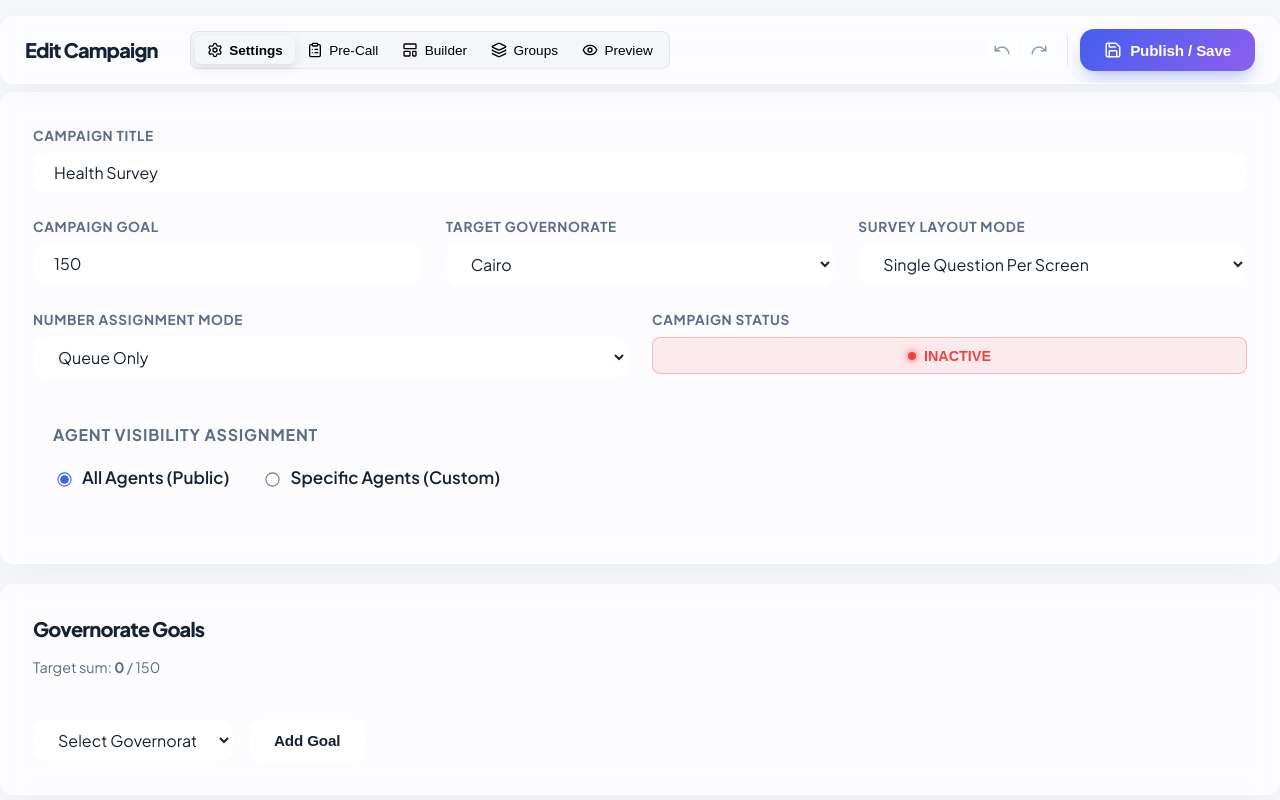
Test: SurveyBuilder Component Tests › INTERACTION: adds new section and questions
The image size is (1280, 800).
Expected: the field with placeholder "e.g. Health Awareness Poll 2026" is shown, top-left (33, 153), bottom-right (1247, 192)
// Switch to Builder tab
Step 1. Click the button "Builder" → x=435, y=50, box top-left (390, 36), bottom-right (479, 64)
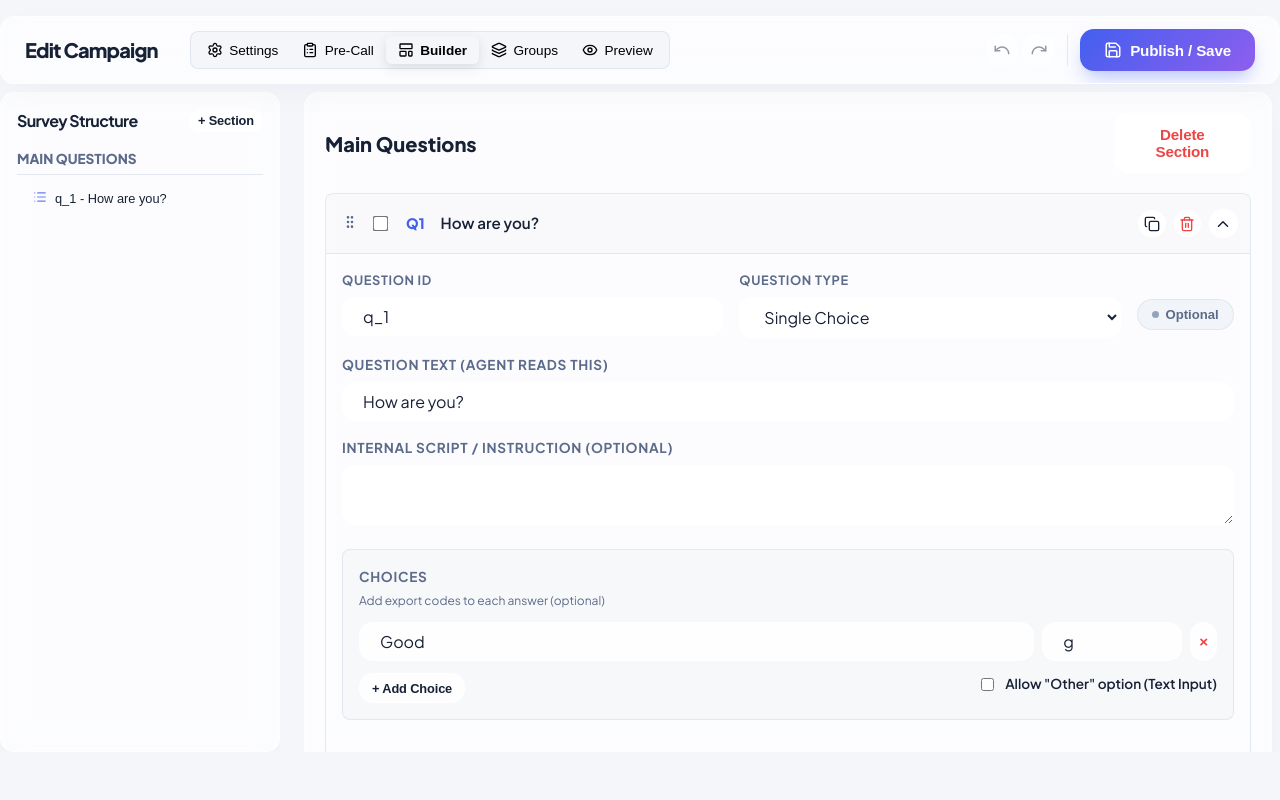
// Click "Add Section" button
Step 2. Click the button "+ Section" → x=226, y=121, box top-left (189, 109), bottom-right (263, 132)
(page scrolled)
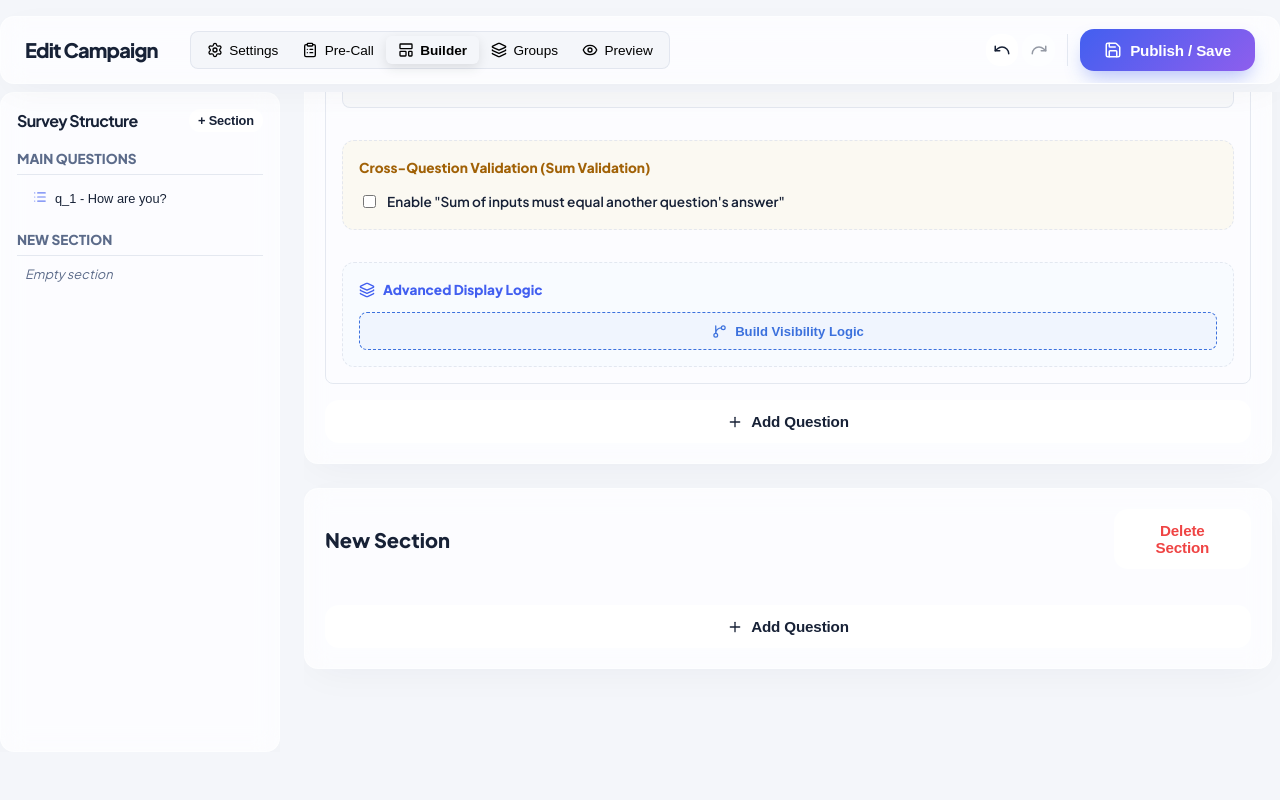
// Click "Add Question" button in first section
Step 3. Click the button "Add Question" below "Advanced Display Logic" → x=788, y=422, box top-left (325, 400), bottom-right (1251, 443)
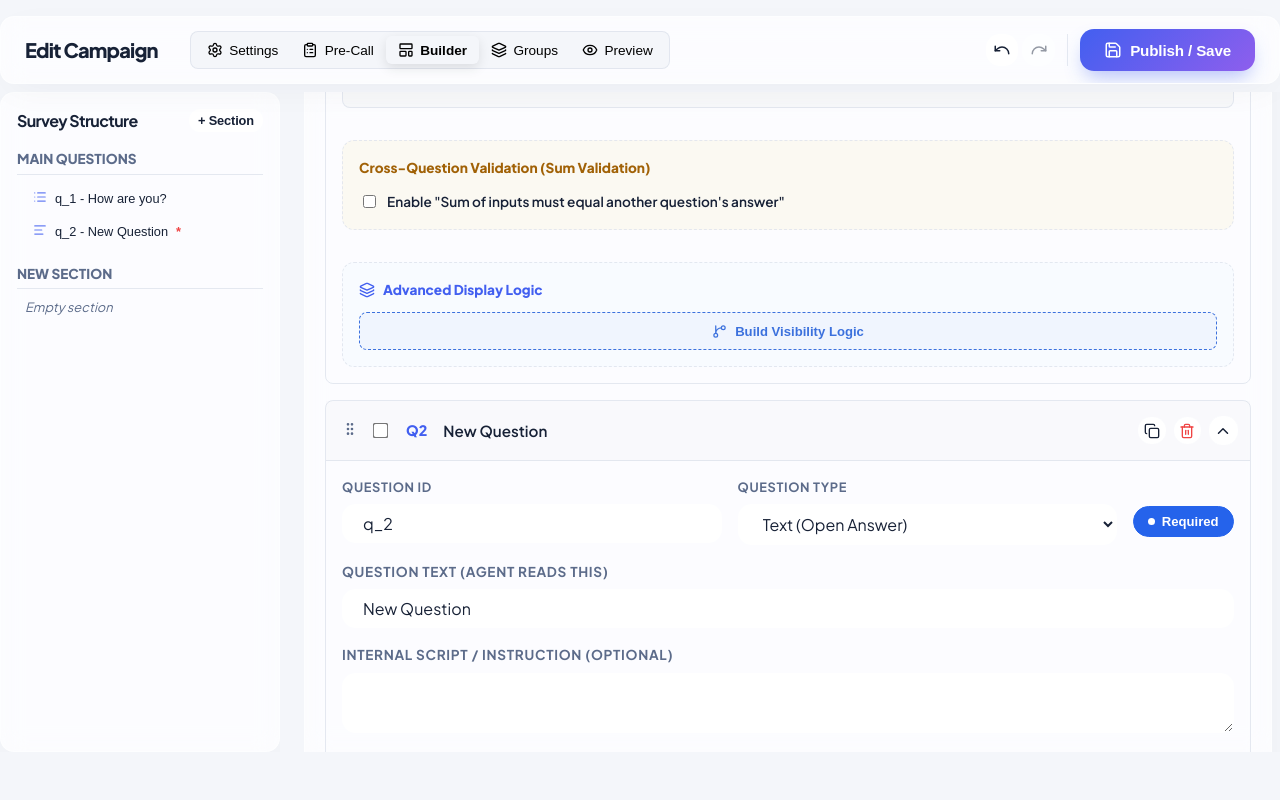
Expected: the field showing "New Question" below "Question Text (Agent reads this)" is shown, top-left (342, 590), bottom-right (1234, 628)
